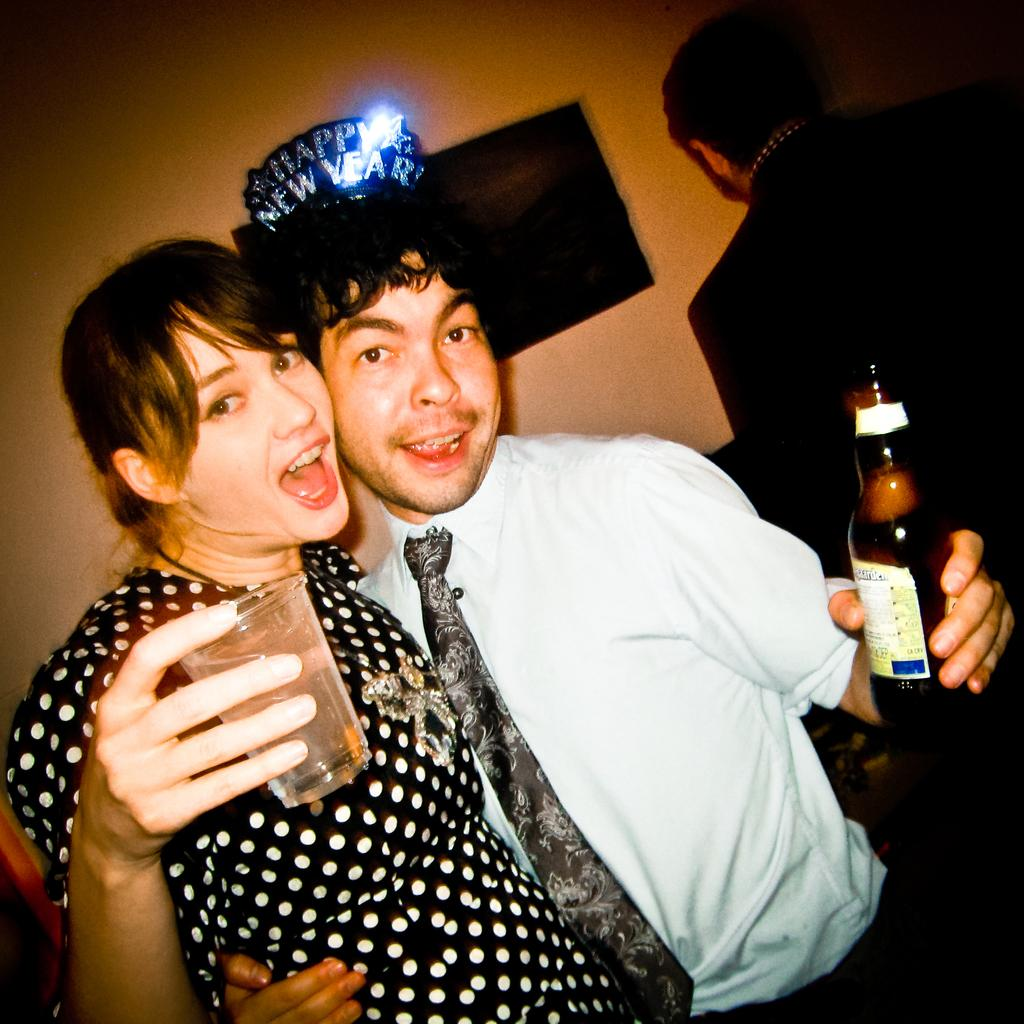no_helmet: (230, 170, 484, 290), (56, 232, 308, 352)
none: (360, 472, 892, 984), (40, 562, 508, 970)
